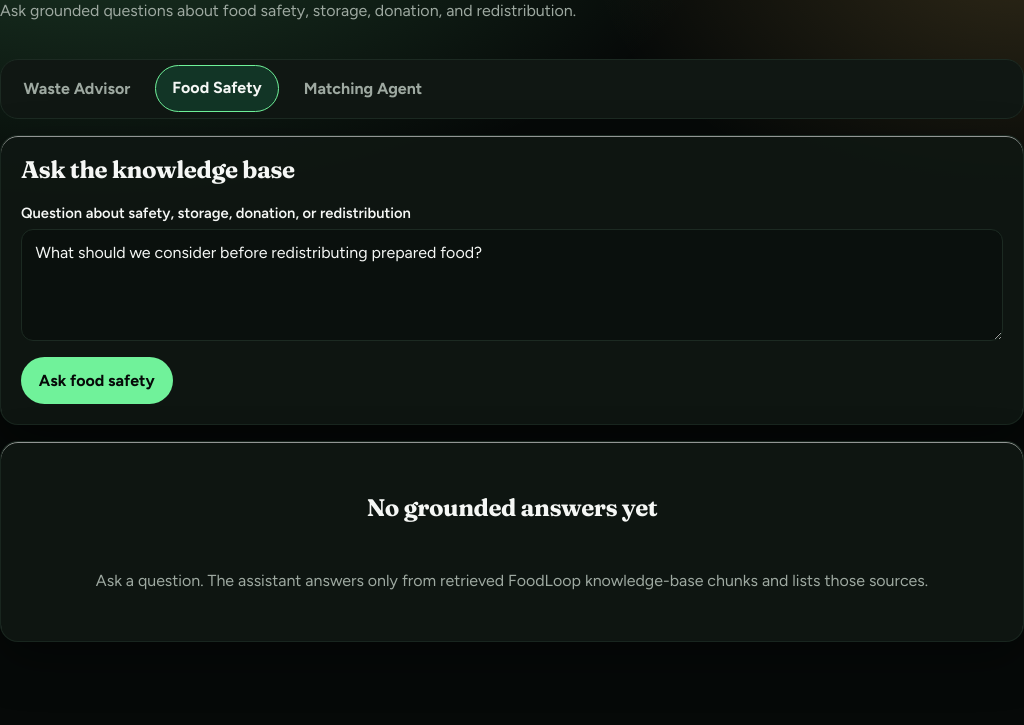
FoodLoop AI workspace › asks the food safety assistant and shows grounded sources
Expected: the heading "No grounded answers yet" is shown, [367,494,657,522]
Click the button "Ask food safety" at (97, 381), box [21,357,172,404]
(page scrolled)
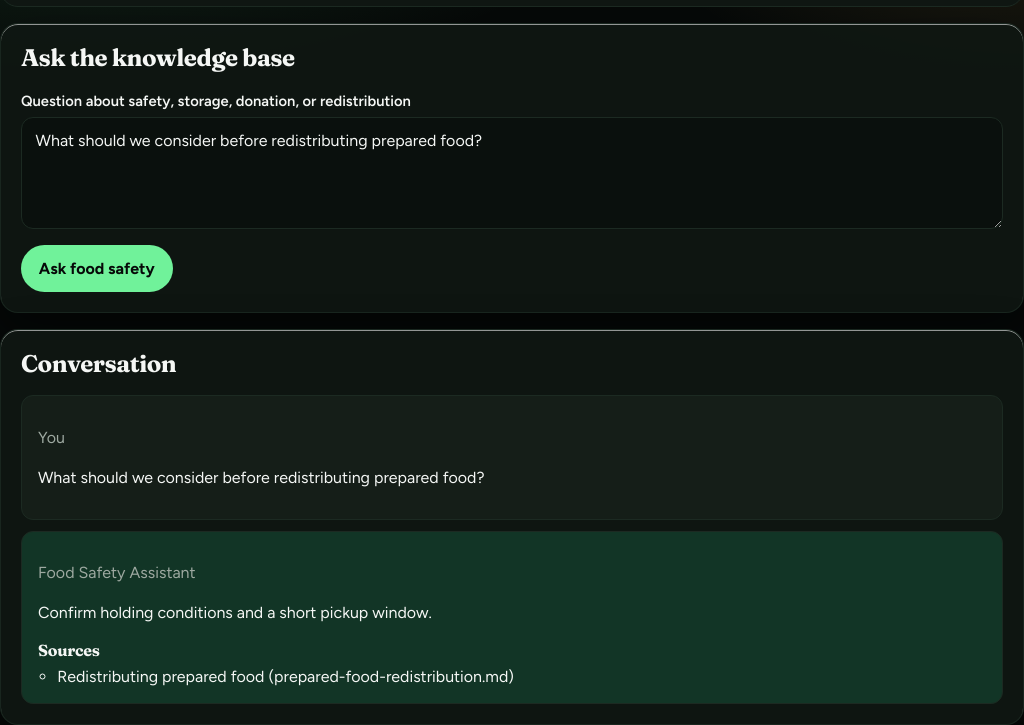
Expected: the heading "Sources" is shown, [38,640,100,660]
Expected: the text "Confirm holding conditions and a short pickup window." is shown, [38,603,432,622]
Expected: the list item "prepared-food-redistribution.md" is shown, [274,667,508,686]
